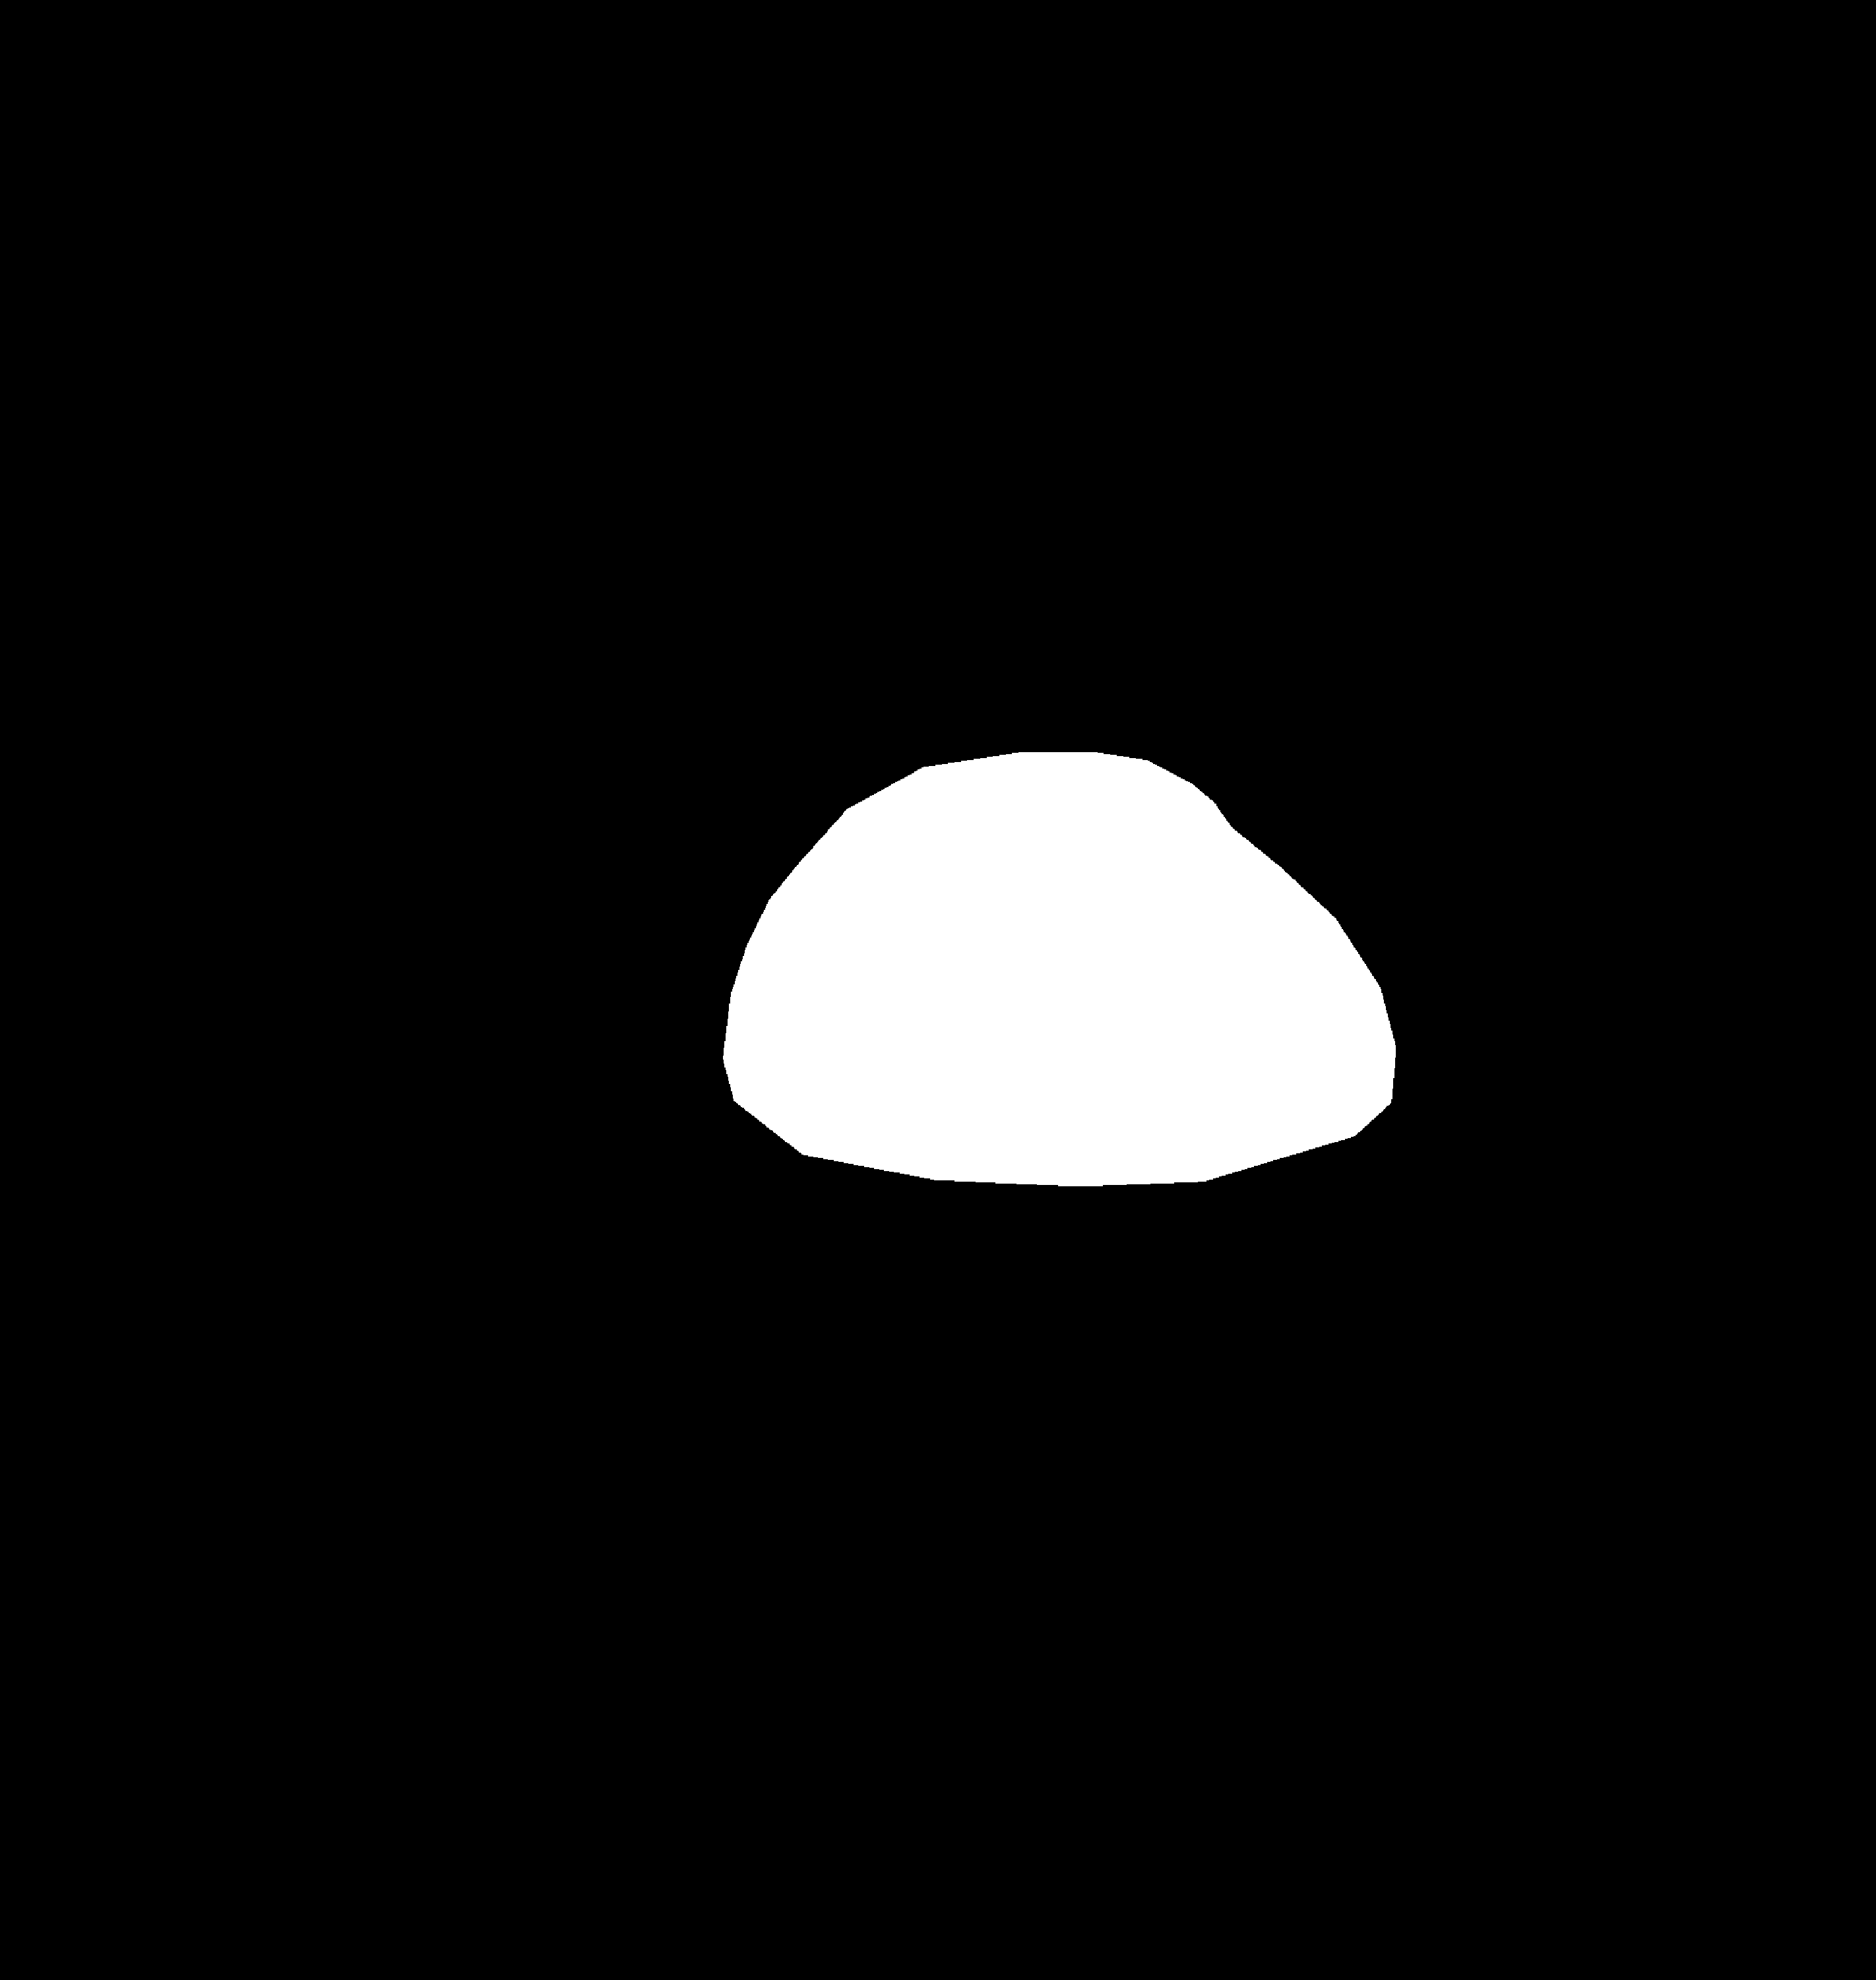heart: (726, 822, 1433, 1250)
left_lung: (317, 226, 919, 1299)
right_lung: (1042, 205, 1638, 1321)
